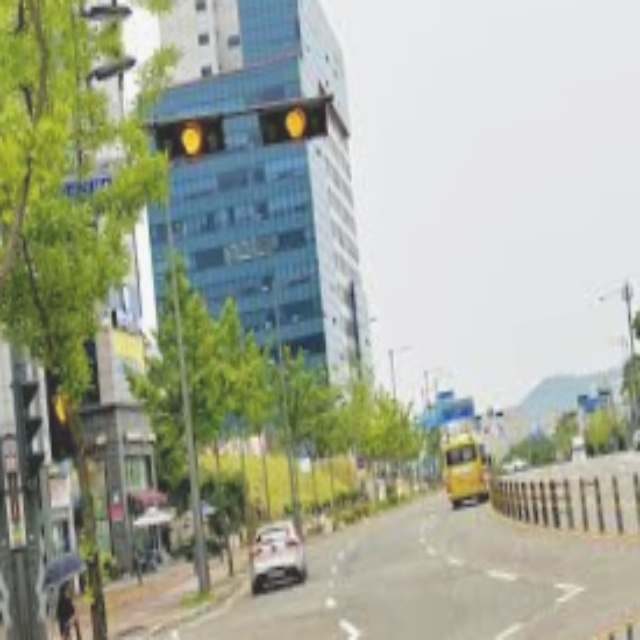yellow_light: (280, 104, 310, 140), (180, 123, 203, 154)
